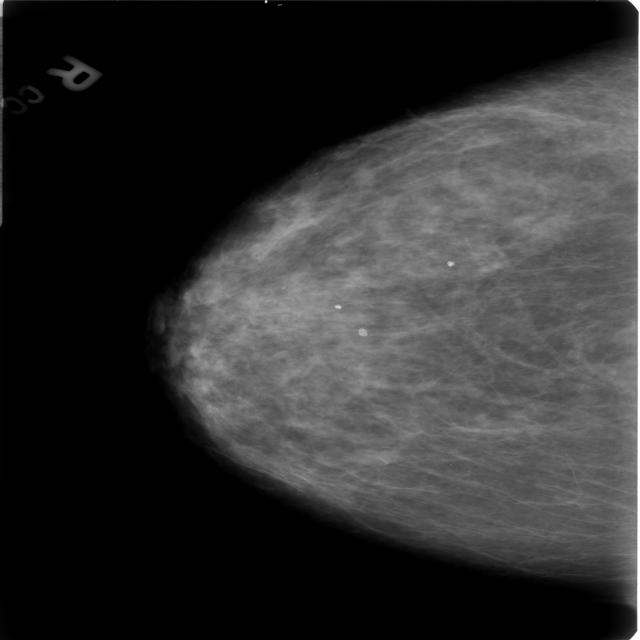normal: (120, 46, 640, 587)
